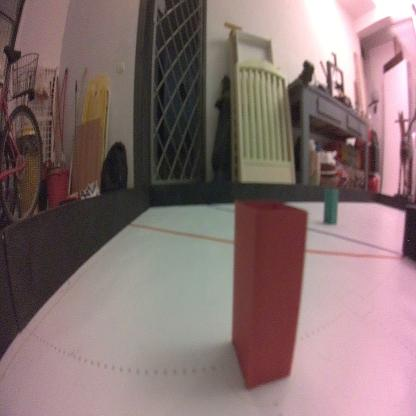green: (323, 187, 339, 225)
red: (231, 198, 308, 392)
